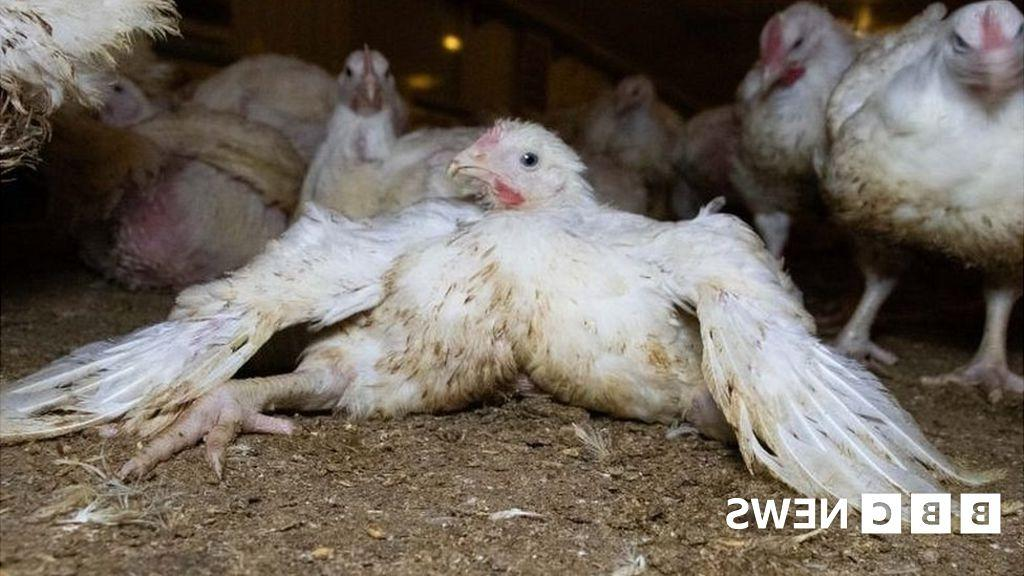AbNormal: (157, 119, 976, 487)
